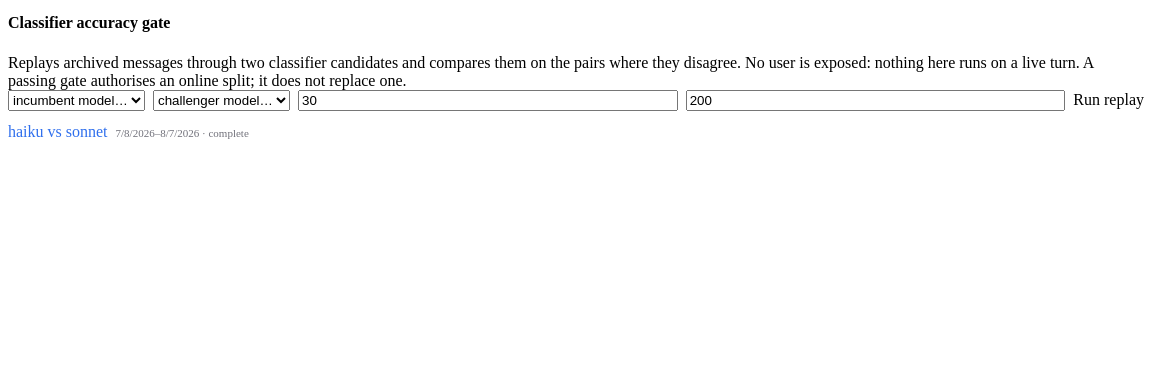
Test case: ClassifierGatePanel › warns when the models agree too closely for a split to detect anything
The image size is (1152, 392).
Click the button "haiku vs sonnet" at (58,132), box [8,122,108,140]
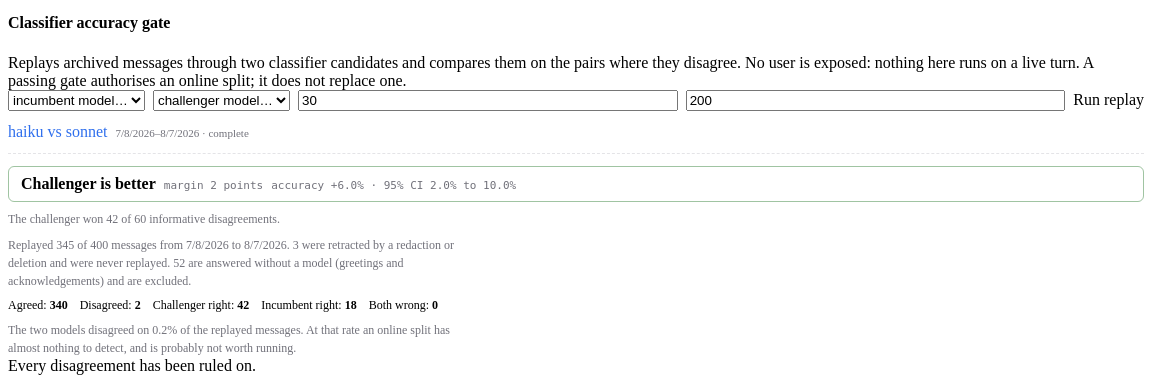
Expected: the text "almost nothing to detect, and is probably not worth running" is shown, [8,322,450,354]
